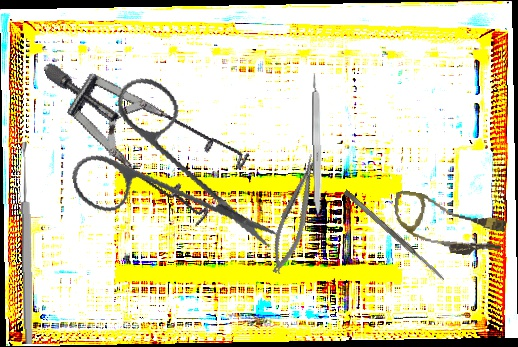Cannula: (388, 189, 509, 261)
Iris Scissors: (54, 56, 280, 286)
Needle Holder: (262, 151, 330, 277)
Scalpel Handle: (311, 72, 324, 218)
Spatula Surgical: (342, 188, 447, 283)
Speculum: (42, 5, 267, 257)
Surgical Spoon: (19, 141, 35, 345)
